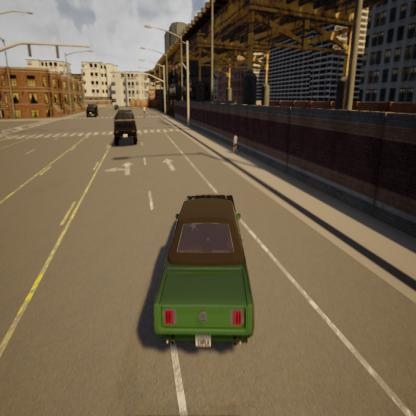Cars: (138, 171, 279, 368), (107, 102, 145, 166), (81, 87, 100, 125)
Pedestrian: (222, 113, 242, 183)
